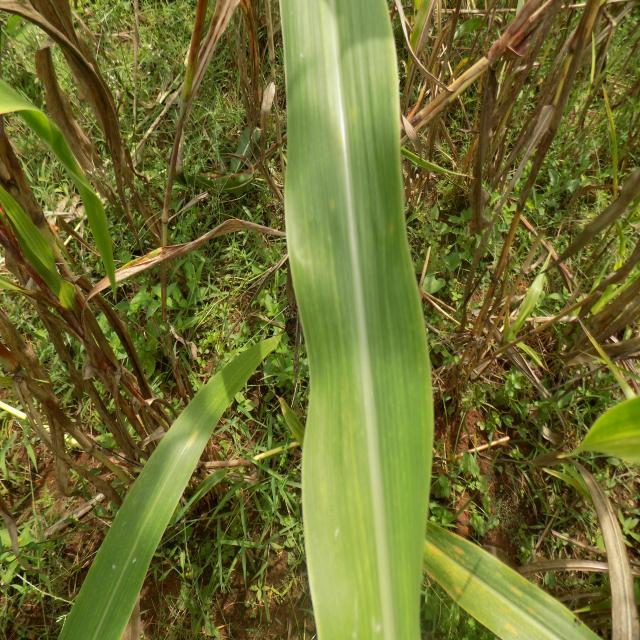millet_healthy: (275, 2, 436, 640)
